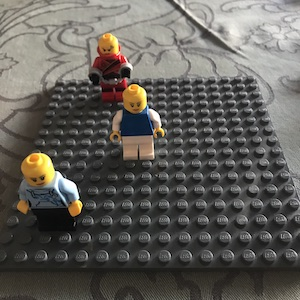Lego: (13, 151, 83, 229), (110, 83, 164, 160), (88, 32, 132, 101)
